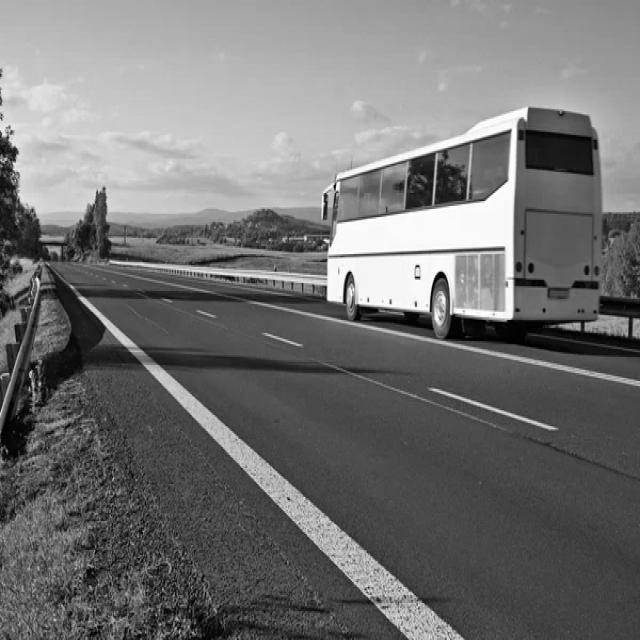Bus: (323, 109, 603, 340)
